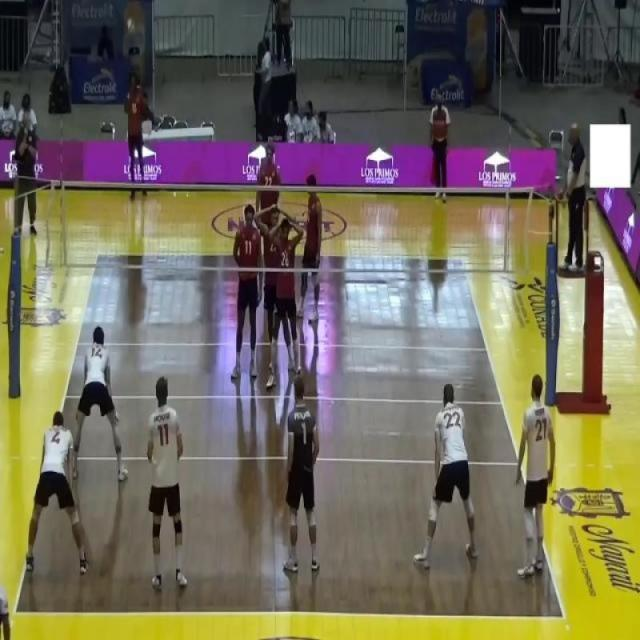volleyball: (126, 17, 135, 34)
